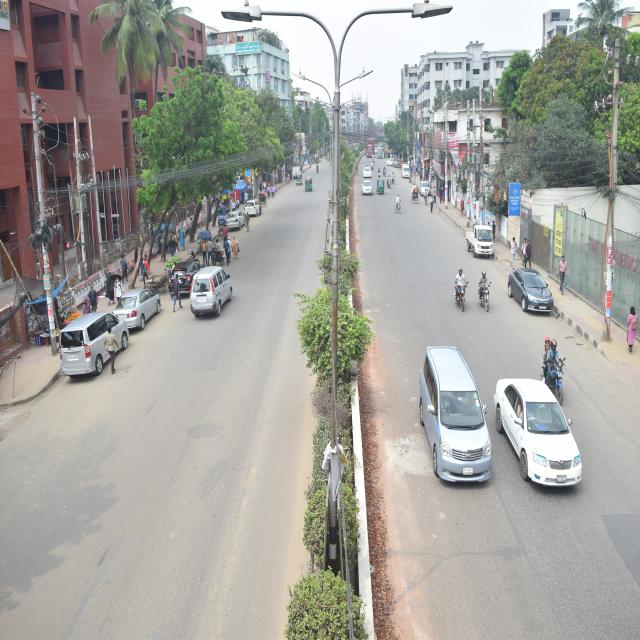bus: (367, 134, 377, 161)
car: (487, 343, 583, 508), (417, 321, 482, 498), (58, 278, 135, 383), (104, 260, 176, 345), (185, 239, 239, 335), (509, 252, 561, 322), (163, 235, 204, 305), (229, 159, 269, 224), (217, 204, 250, 252), (416, 170, 442, 208), (362, 172, 381, 211), (361, 158, 376, 188)
motorbike: (520, 308, 571, 406), (452, 258, 477, 316), (206, 236, 234, 282), (478, 261, 493, 320), (387, 164, 397, 190), (374, 164, 384, 186), (370, 158, 379, 178), (385, 175, 392, 194), (382, 163, 387, 174)
pickup-van: (454, 206, 499, 275), (287, 151, 306, 191), (401, 154, 411, 182)
